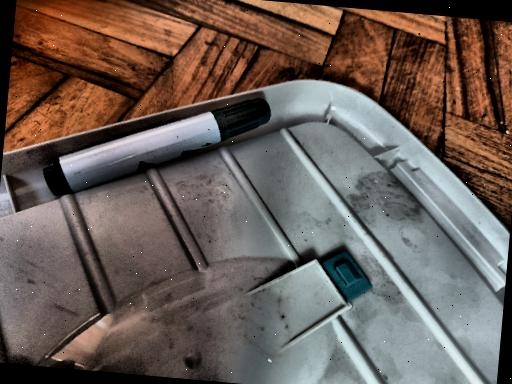marcador negro: (43, 97, 270, 195)
